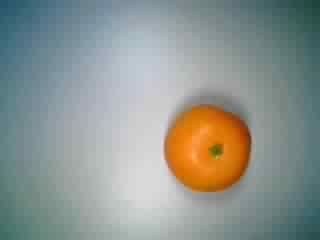orange: (162, 97, 257, 199)
